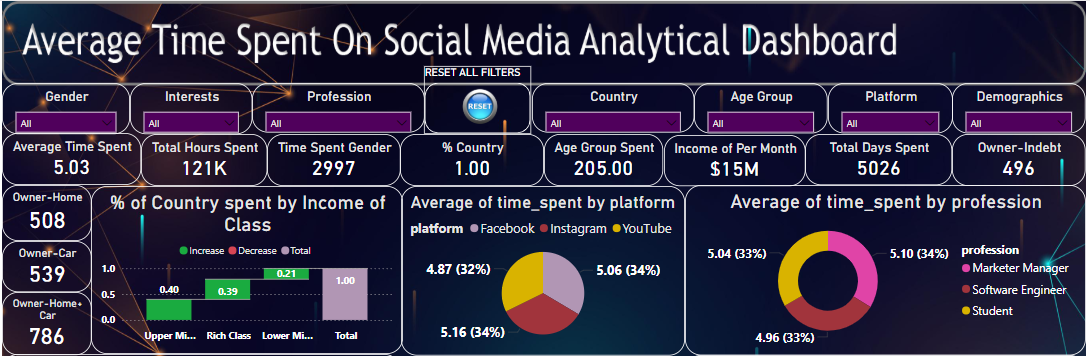

What the dashboard file says about the page in this screenshot:
{"tool":"powerbi","page":{"name":"KPI Metrics ","canvas":[1280,720],"ordinal":1},"visuals":[{"type":"card","title":"Owner- Home+Car","fields":{"Values":["Sum(Time Spent.Count_Owner_Home+Car )"]},"box":[501.7,383.3,190,81.7],"z":0},{"type":"card","title":"% Country ","fields":{"Values":["% KPI_Measures.% of Country spent"]},"box":[265,118.3,191.7,95],"z":1000},{"type":"card","title":"Total Hours Spent","fields":{"Values":["KPI_Measures.Total Hours Spent"]},"box":[501.7,120,190,93.3],"z":2000},{"type":"card","title":"Average Time Spent","fields":{"Values":["KPI_Measures.Average Time Spent on Social Media"]},"box":[501.7,248.3,190,90],"z":3000},{"type":"card","title":"Age Group Spent","fields":{"Values":["KPI_Measures.Average Time Spent By Age Group"]},"box":[41.7,118.3,188.3,95],"z":4000},{"type":"card","title":"Time Spent Gender","fields":{"Values":["Sum(Time Spent.Gender Count)"]},"box":[746.7,248.3,165,90],"z":5000},{"type":"card","title":"Income of Per Month","fields":{"Values":["Sum(Time Spent.income of per month)"]},"box":[35,251.7,195,90],"z":6000},{"type":"card","title":"Total Days Spent ","fields":{"Values":["Sum(Time Spent.Total Days Spent)"]},"box":[265,251.7,191.7,86.7],"z":7000},{"type":"card","title":"Owner- Home","fields":{"Values":["Sum(Time Spent.Count_Owner_Home)"]},"box":[41.7,383.3,188.3,81.7],"z":8000},{"type":"card","title":"Owner- Car","fields":{"Values":["Sum(Time Spent.Count_Owner_Car)"]},"box":[265,383.3,191.7,81.7],"z":9000},{"type":"card","title":"Owner- Indebted","fields":{"Values":["Sum(Time Spent.Count_Indebt)"]},"box":[746.7,120,165,93.3],"z":10000},{"type":"card","title":"Total Time Spent","fields":{"Values":["KPI_Measures.Time Spent Count"]},"box":[746.7,383.3,165,90],"z":11000}]}

Visuals, with their boxes on the page's 1280x720 design canvas (x1, y1, x2, y2). These are canvas units, not pixel positions in the 1090x356 screenshot, which may show the page scaled, cropped or inside an application window:
"Owner- Home+Car" card: <bbox>502, 383, 692, 465</bbox>
"% Country " card: <bbox>265, 118, 457, 213</bbox>
"Total Hours Spent" card: <bbox>502, 120, 692, 213</bbox>
"Average Time Spent" card: <bbox>502, 248, 692, 338</bbox>
"Age Group Spent" card: <bbox>42, 118, 230, 213</bbox>
"Time Spent Gender" card: <bbox>747, 248, 912, 338</bbox>
"Income of Per Month" card: <bbox>35, 252, 230, 342</bbox>
"Total Days Spent " card: <bbox>265, 252, 457, 338</bbox>
"Owner- Home" card: <bbox>42, 383, 230, 465</bbox>
"Owner- Car" card: <bbox>265, 383, 457, 465</bbox>
"Owner- Indebted" card: <bbox>747, 120, 912, 213</bbox>
"Total Time Spent" card: <bbox>747, 383, 912, 473</bbox>
